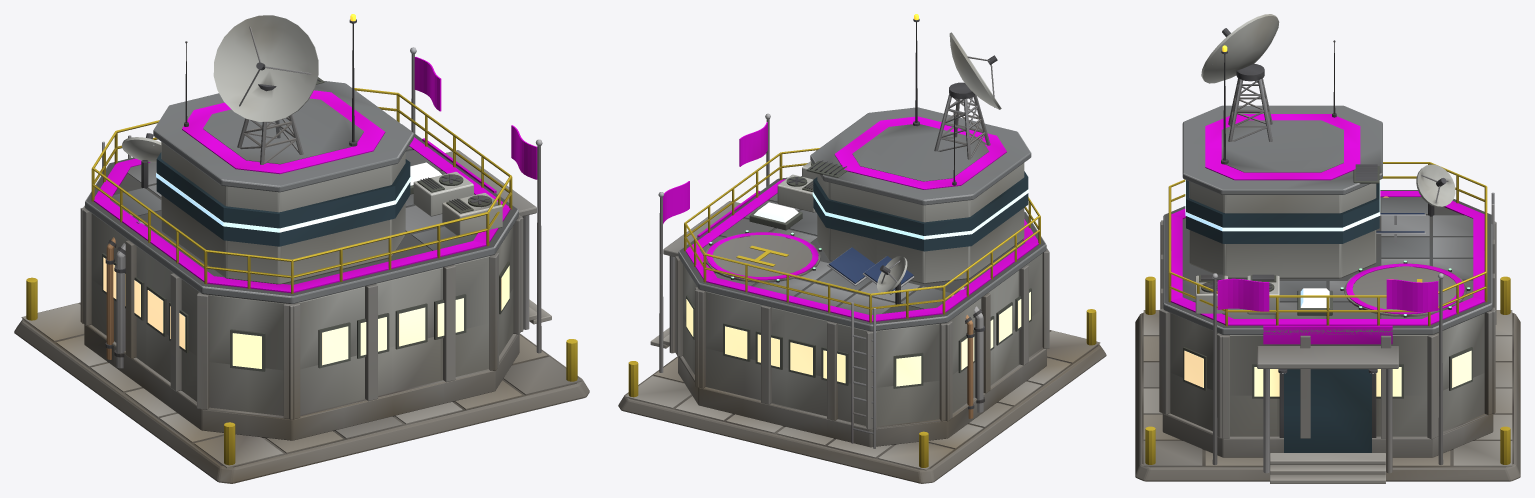
Rendered from command_center.glb.
3 views of the same model, side by side, from view 1: azimuth 30°, elevation 25°; view 2: azimuth 150°, elevation 25°; view 3: azimuth 270°, elevation 25° (orthographic). The views are drawn at different scales.
Parts seen in each view (by area): view 1: Body; view 2: Body; view 3: Body.
Boxes of the visible parts, x1,y1,x2,y2 form: Body: (14,14,589,483); Body: (618,14,1106,483); Body: (1135,14,1520,483).
Bounding box in the file's own units: 6.49 × 6.04 × 5.98.
Materials: 1 (1 with a texture image).
